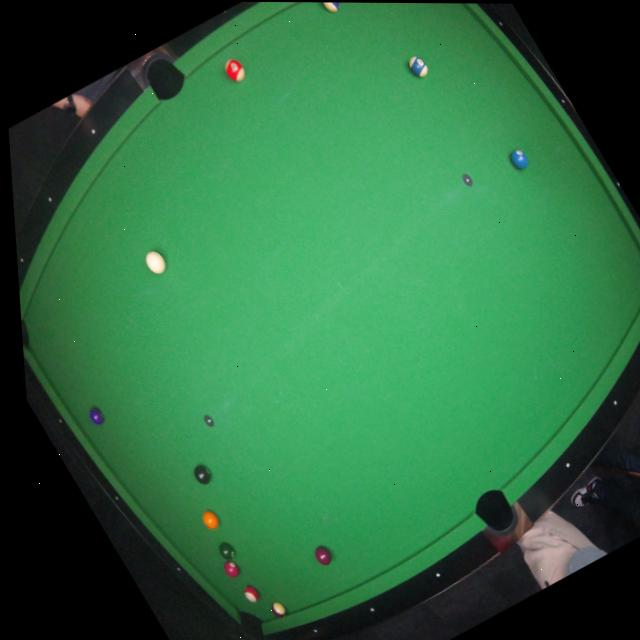cue ball: (139, 245, 175, 280)
other: (217, 52, 253, 86), (402, 50, 434, 84), (501, 145, 533, 176), (82, 401, 111, 431), (189, 462, 215, 488), (311, 543, 336, 568), (214, 538, 238, 562), (199, 507, 222, 532), (240, 581, 263, 606), (220, 557, 243, 581), (267, 598, 290, 621), (316, 2, 346, 18)
